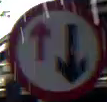Two way: (8, 5, 101, 93)
